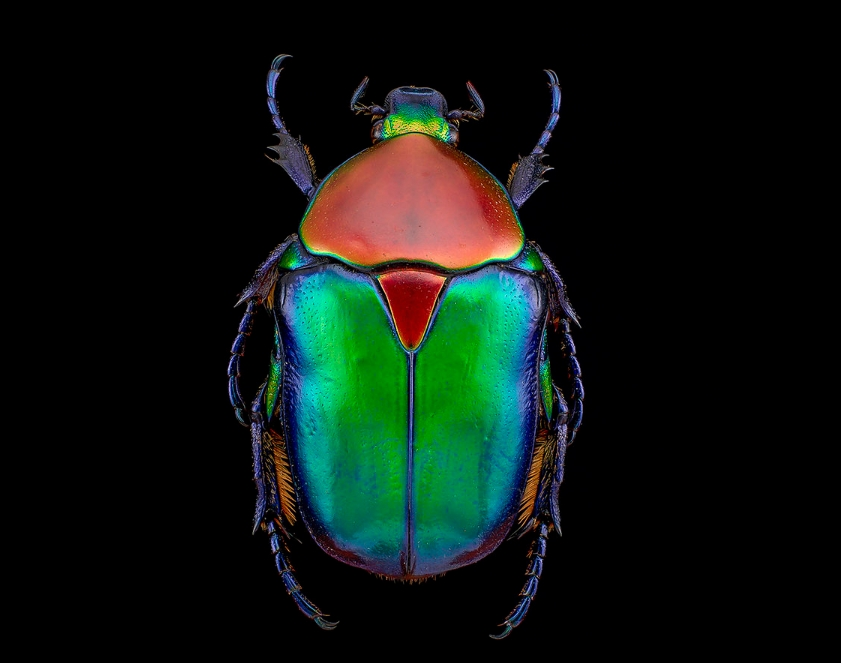Protaetia_speciosa_jousselini: (179, 34, 600, 648)
